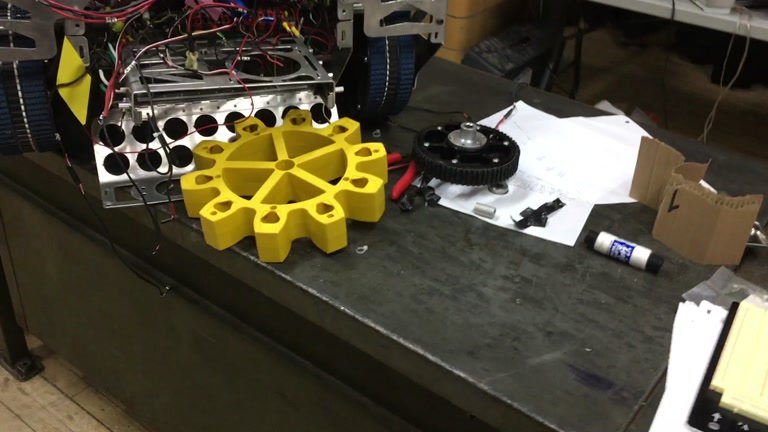gear: (180, 105, 387, 263)
